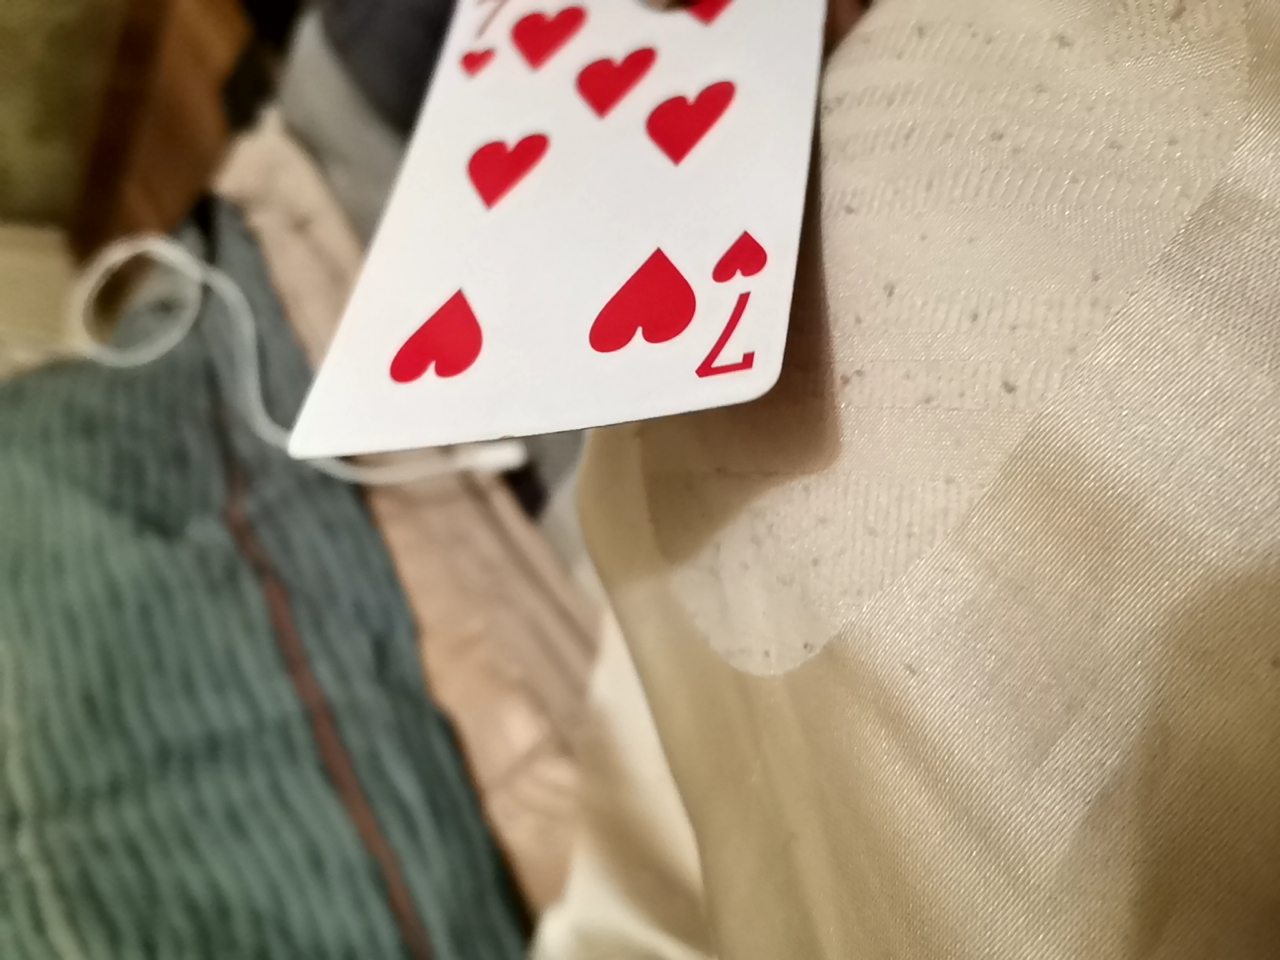hx 7: (283, 4, 826, 463)
